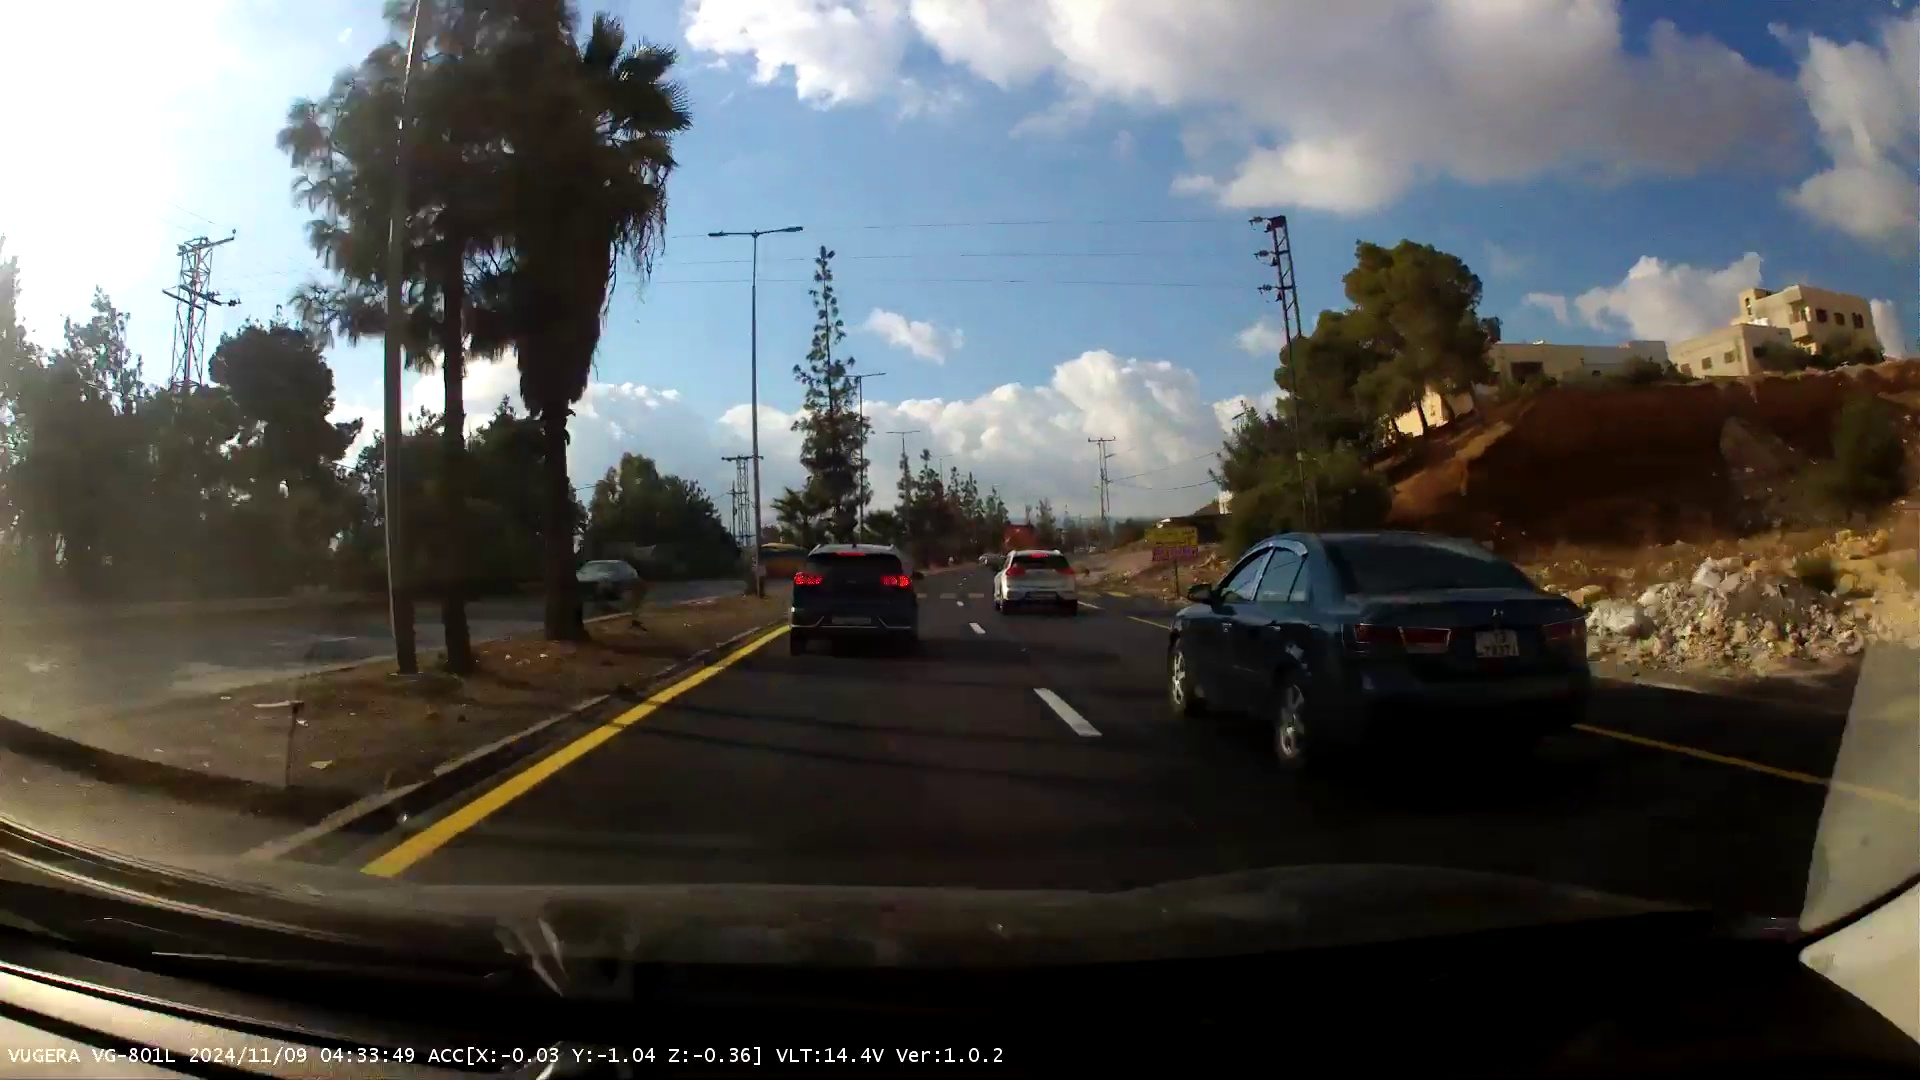vehicle: (1164, 531, 1590, 771), (789, 542, 918, 653), (992, 550, 1077, 618), (574, 559, 641, 597)
